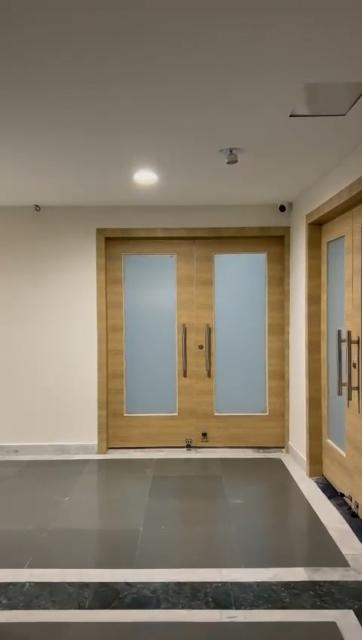door: (91, 229, 291, 449), (311, 204, 362, 493)
floor: (0, 448, 362, 640)
wall: (0, 196, 94, 447)
